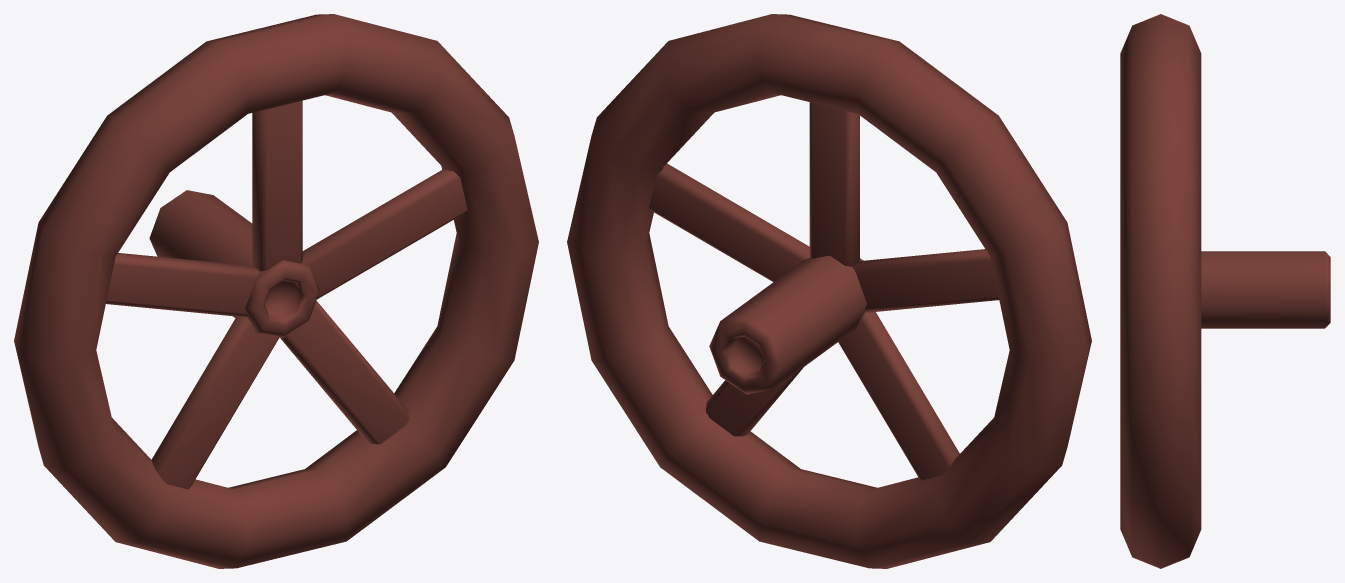
Rendered from HandValve.fbx.
3 renders of one model, left to right at view 1: azimuth 30°, elevation 25°; view 2: azimuth 150°, elevation 25°; view 3: azimuth 270°, elevation 25°, orthographic. The views are drawn at different scales.
Visible parts, largest first — view 1: HandValve; view 2: HandValve; view 3: HandValve.
Part boxes in pixels (x1=…): HandValve: x1=14, y1=14, x2=538, y2=568; HandValve: x1=567, y1=14, x2=1091, y2=568; HandValve: x1=1120, y1=14, x2=1330, y2=568.
Size of the model in its own units: 0.7 by 0.6824 by 0.2593.
